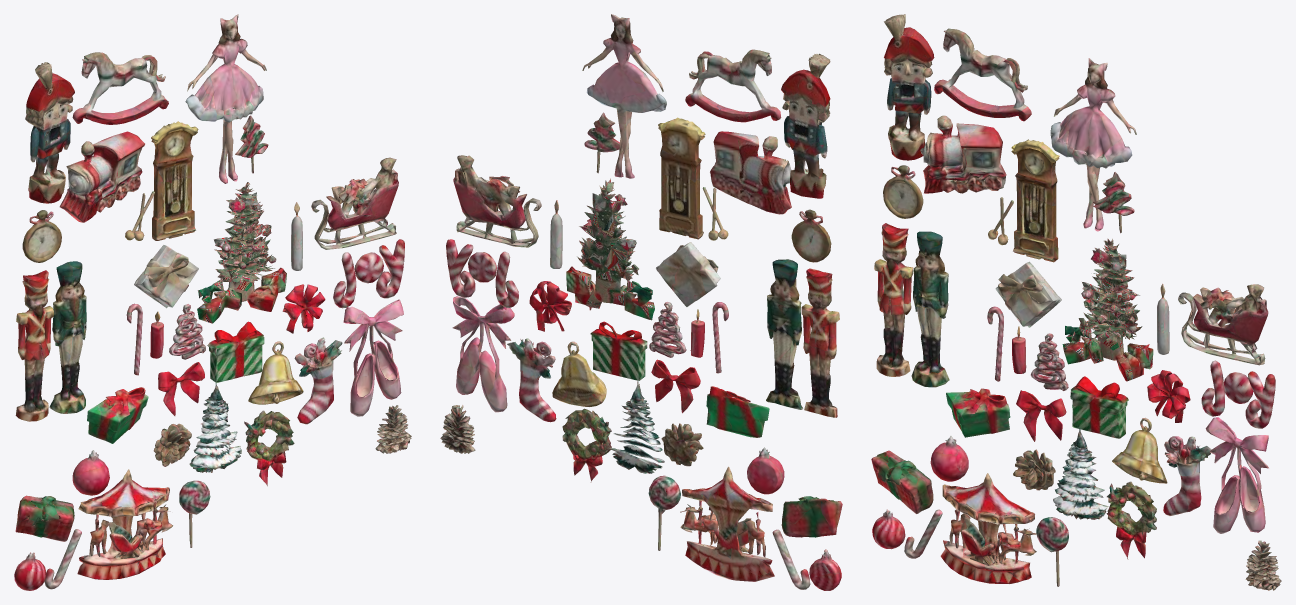
3 views of the same model, side by side, from view 1: azimuth 30°, elevation 25°; view 2: azimuth 150°, elevation 25°; view 3: azimuth 330°, elevation 25° (orthographic). The views are drawn at different scales.
Visible parts, largest first — view 1: Mesh 11, Mesh 42, Mesh 28, Mesh 8, Mesh 5, Mesh 22, Mesh 49, Mesh 29, Mesh 7, Mesh 3, Mesh 10, Mesh 17 (+22 smaller); view 2: Mesh 11, Mesh 42, Mesh 5, Mesh 8, Mesh 28, Mesh 22, Mesh 49, Mesh 29, Mesh 7, Mesh 3, Mesh 10, Mesh 17 (+22 smaller); view 3: Mesh 11, Mesh 42, Mesh 28, Mesh 5, Mesh 8, Mesh 22, Mesh 49, Mesh 7, Mesh 29, Mesh 3, Mesh 10, Mesh 17 (+21 smaller).
Part boxes in pixels (x1,y1,x2,y2): Mesh 11: (77, 469, 172, 579); Mesh 42: (197, 182, 286, 323); Mesh 28: (185, 14, 266, 183); Mesh 8: (59, 131, 144, 222); Mesh 5: (25, 62, 74, 203); Mesh 22: (151, 121, 198, 240); Mesh 49: (311, 157, 398, 249); Mesh 29: (343, 299, 403, 416); Mesh 7: (49, 261, 86, 413); Mesh 3: (15, 270, 54, 421); Mesh 10: (72, 52, 168, 124); Mesh 17: (333, 239, 404, 308); Mesh 11: (680, 466, 774, 581); Mesh 42: (566, 178, 654, 320); Mesh 5: (781, 53, 830, 198); Mesh 8: (710, 131, 791, 214); Mesh 28: (582, 14, 666, 178); Mesh 22: (658, 117, 705, 239); Mesh 49: (453, 155, 541, 247); Mesh 29: (452, 296, 514, 412); Mesh 7: (766, 259, 802, 409); Mesh 3: (801, 268, 839, 417); Mesh 10: (685, 49, 781, 122); Mesh 17: (446, 239, 518, 307); Mesh 11: (940, 473, 1036, 583); Mesh 42: (1062, 238, 1153, 381); Mesh 28: (1050, 58, 1136, 231); Mesh 5: (884, 14, 934, 160); Mesh 8: (920, 115, 1006, 193); Mesh 22: (1011, 139, 1059, 262); Mesh 49: (1178, 284, 1268, 365); Mesh 7: (911, 231, 949, 387); Mesh 29: (1205, 417, 1268, 533); Mesh 3: (874, 223, 913, 376); Mesh 10: (934, 28, 1031, 121); Mesh 17: (1201, 360, 1275, 428).
Size of the model in its own units: 1.47 by 1.9 by 0.1001.
35 materials, 35 textured.
